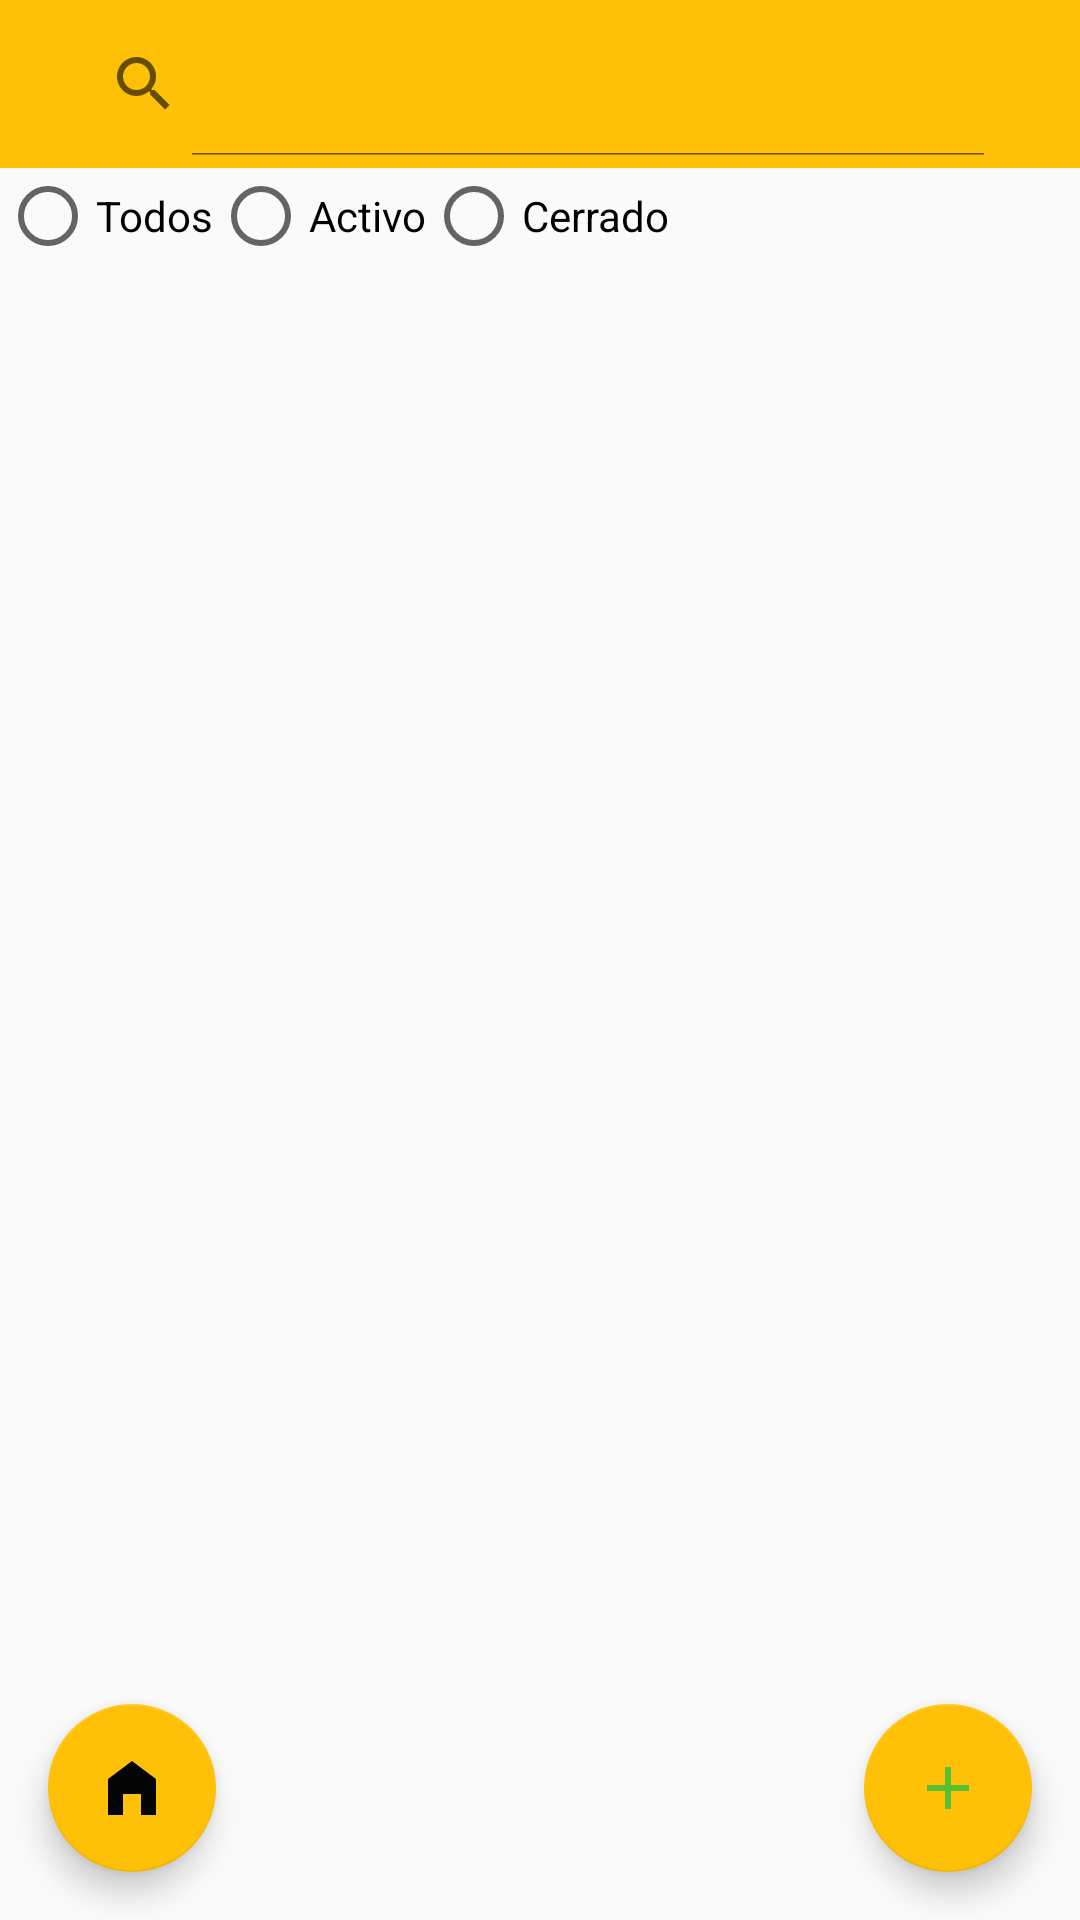

Icon click points for this 1080 × 1920 phone screenshot, format (x,y):
add: (948,1788)
home: (132,1788)
